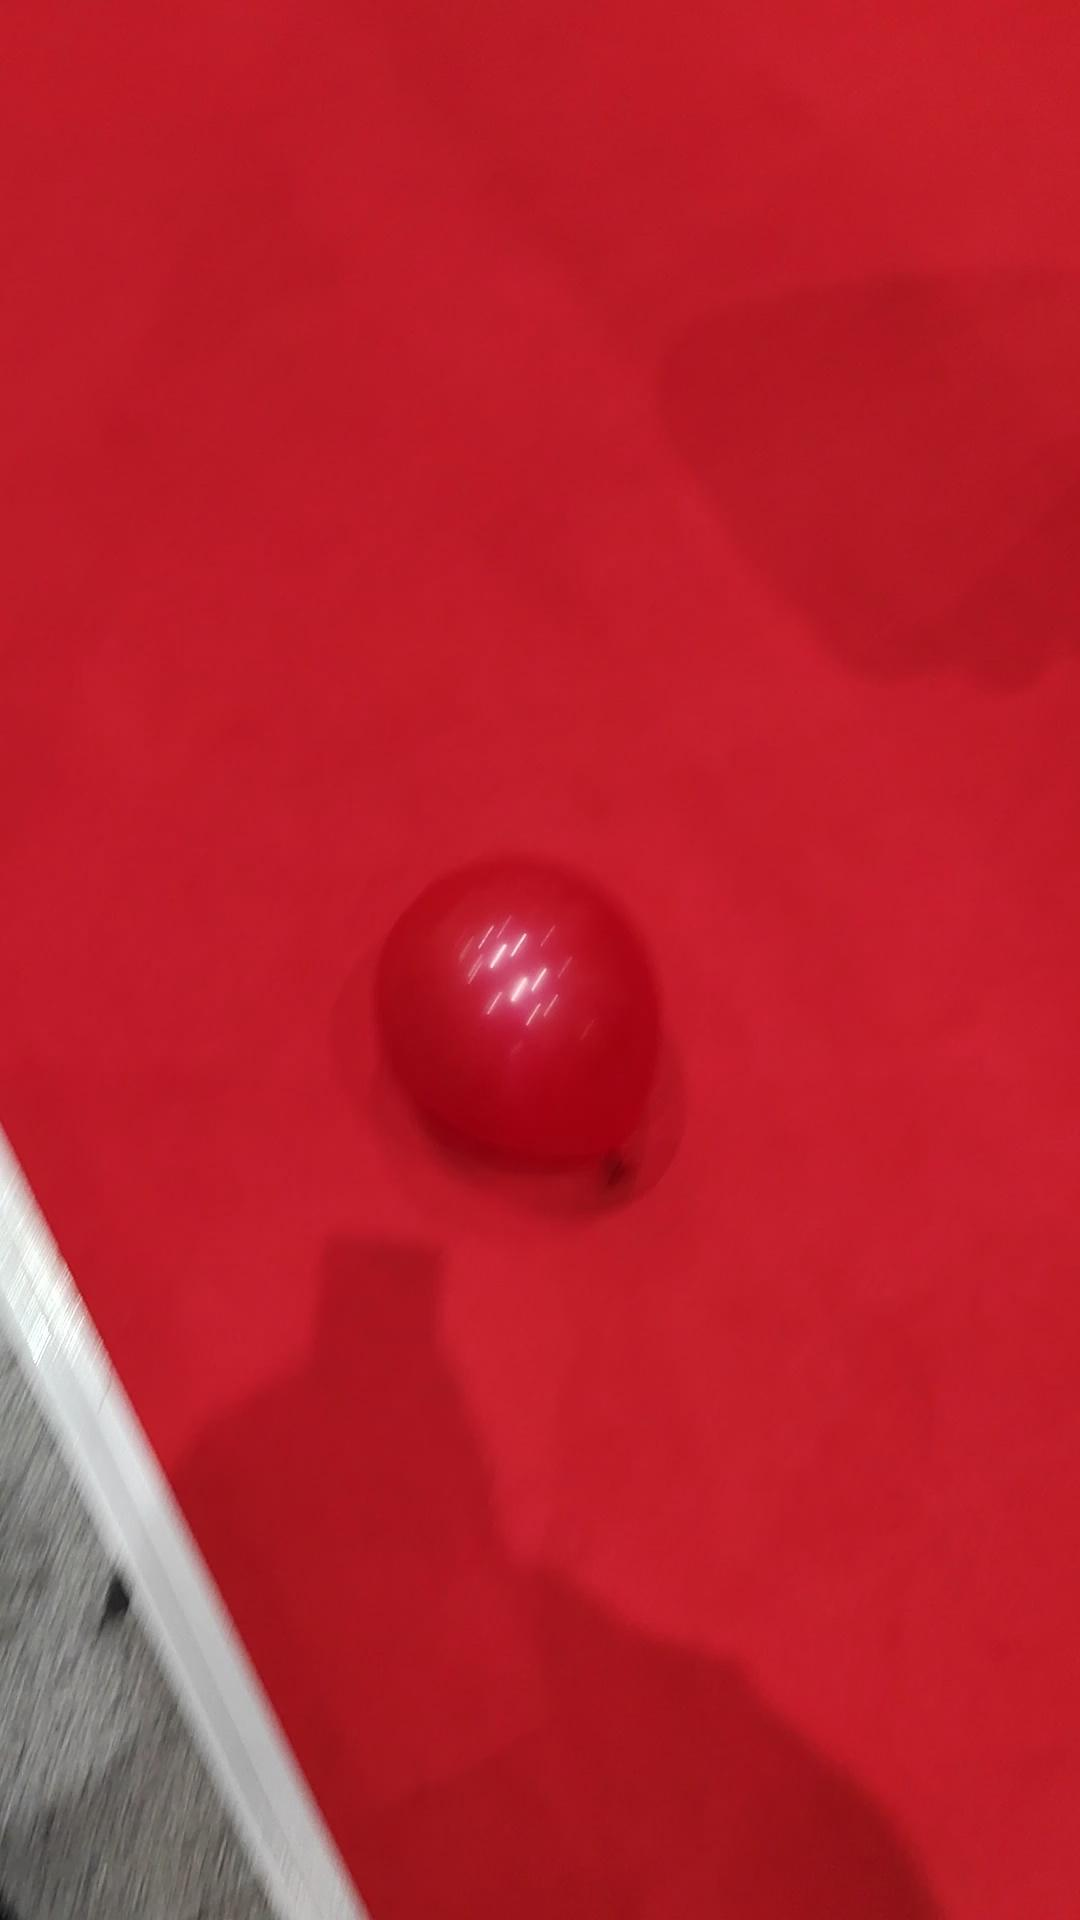red: (375, 853, 661, 1168)
